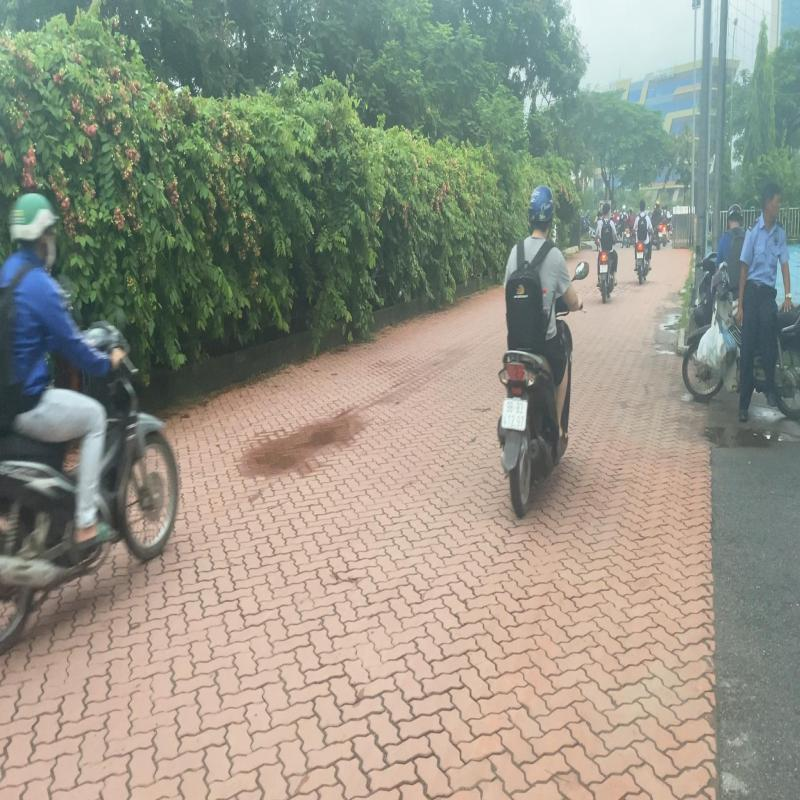helmet: (530, 186, 554, 232)
licenseplate: (500, 398, 528, 431)
motorcyclist: (496, 182, 591, 518)
